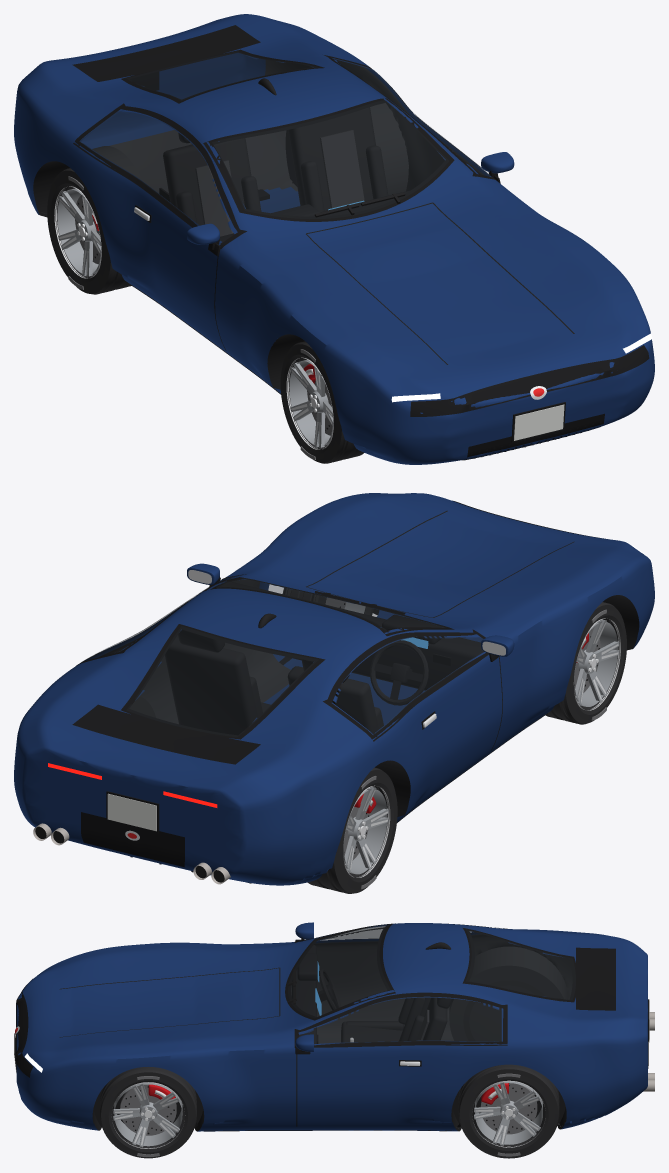
The model's file is 12cil.glb.
The picture shows the model from 3 angles, top to bottom: view 1: azimuth 30°, elevation 25°; view 2: azimuth 150°, elevation 25°; view 3: azimuth 270°, elevation 25°; orthographic projection. The views are drawn at different scales.
Visible parts, largest first — view 1: Body, Wheel_RR, Wheel_FR; view 2: Body, Wheel_RR, Wheel_FR, Wheel_FL; view 3: Body, Wheel_RL, Wheel_FL, Wheel_RR.
Boxes of the visible parts, box(x1,y1,x2,y2) form: Body: box(14, 14, 654, 464); Wheel_RR: box(47, 168, 131, 294); Wheel_FR: box(280, 341, 364, 463); Body: box(14, 493, 654, 885); Wheel_RR: box(307, 767, 397, 893); Wheel_FR: box(545, 602, 626, 724); Wheel_FL: box(282, 587, 373, 615); Body: box(14, 922, 654, 1131); Wheel_RL: box(458, 1064, 559, 1158); Wheel_FL: box(100, 1067, 196, 1158); Wheel_RR: box(463, 980, 544, 1041).
Size of the model in its own units: 2.17 by 1.34 by 4.8.
